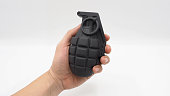e1: (67, 11, 107, 77)
